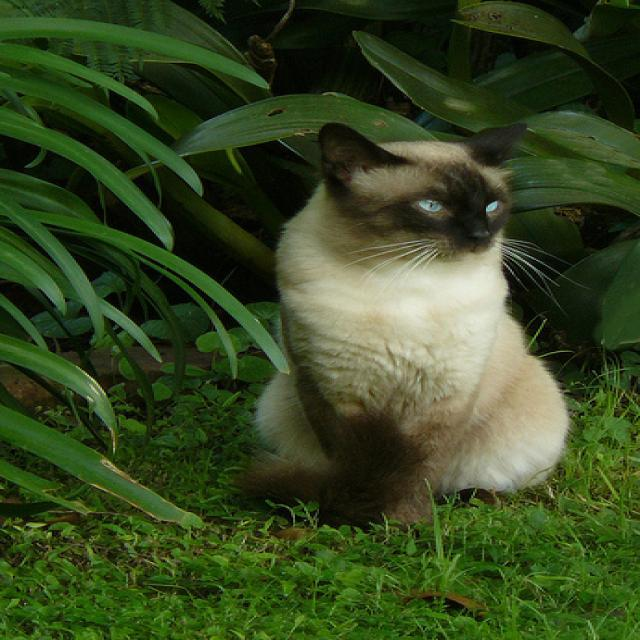Siamese: (315, 122, 525, 263)
